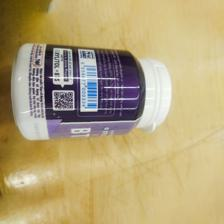Xylitol_BTS: (9, 41, 173, 139)
